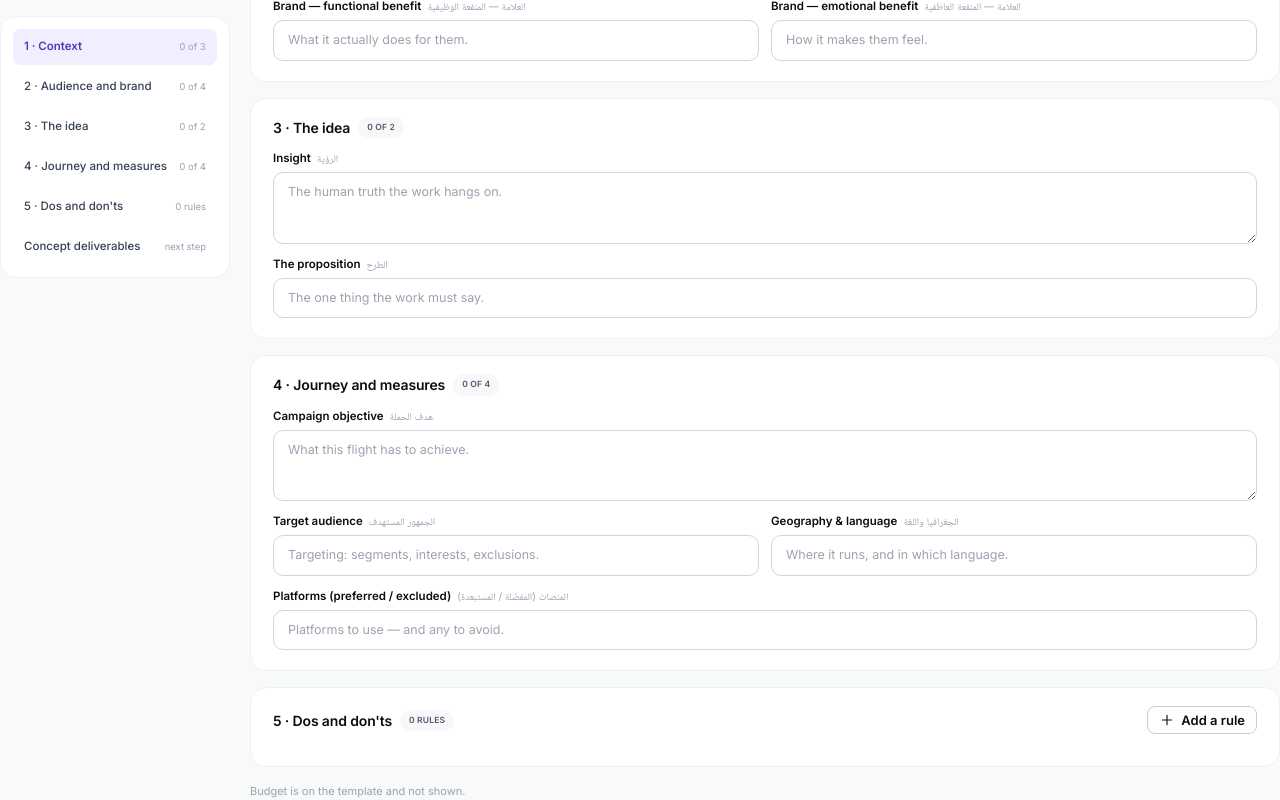
BriefStepContainer › opens the rule dialog and hands the finished rule back
The width and height of the screenshot is (1280, 800).
(page scrolled)
Click the button with test id "brief-add-rule" at (1202, 720), box 1147,706 -> 1257,734
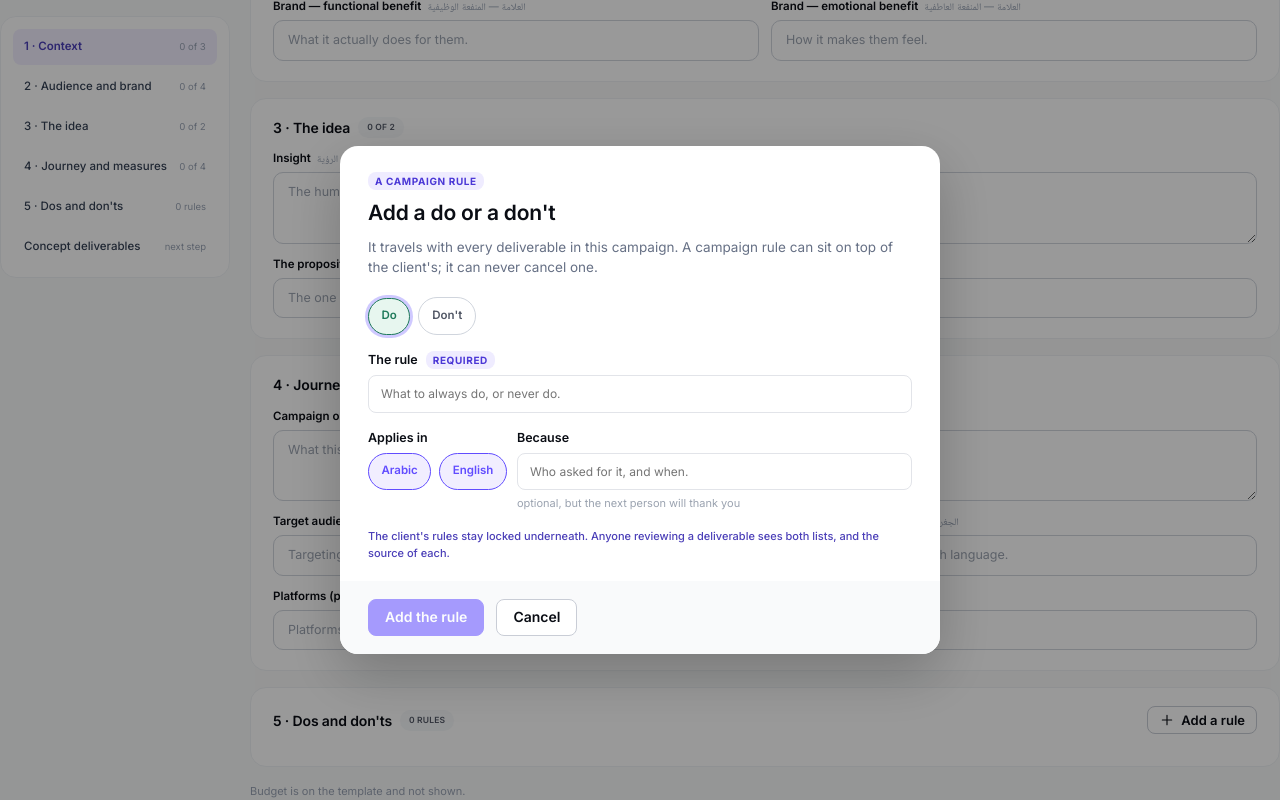
Click the radio button with test id "brief-rule-dialog-kind-dont" at (447, 316), box 418,297 -> 476,335
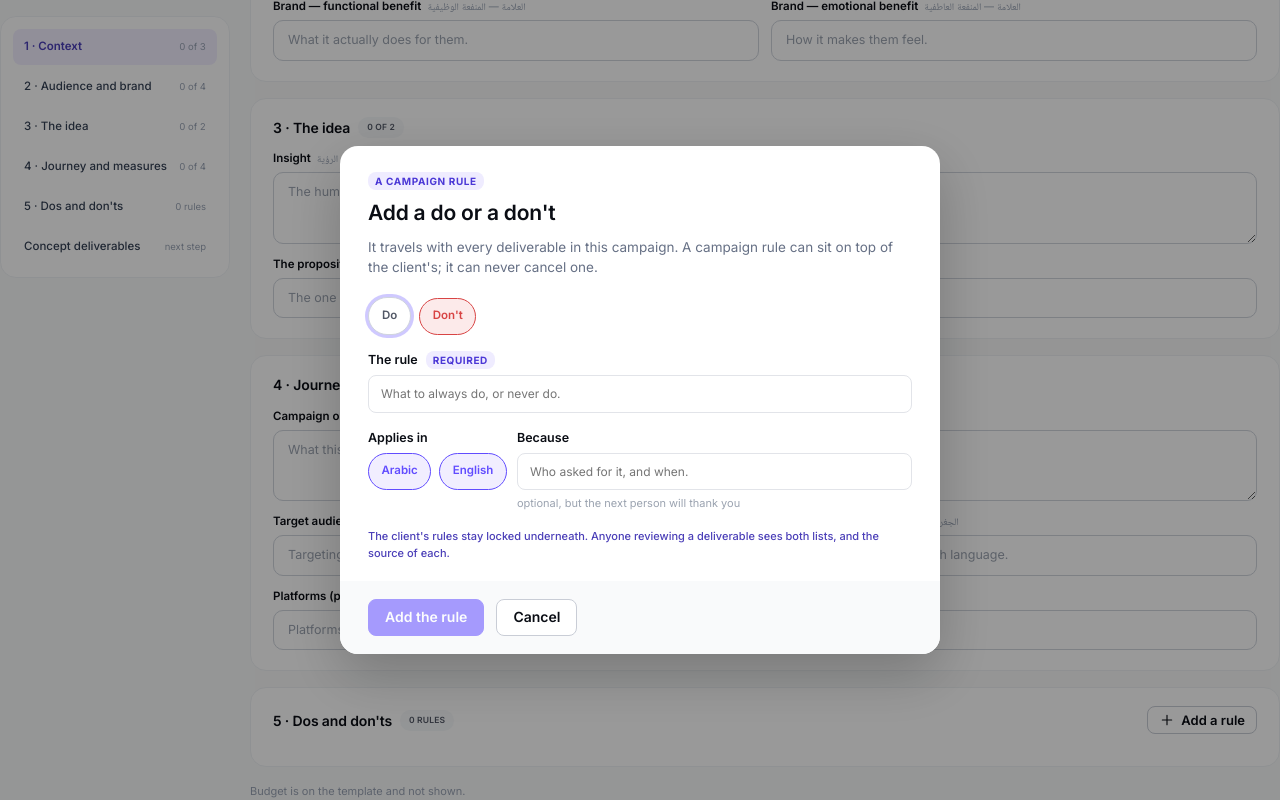
Type "Never \"lottery\"." into the field with test id "brief-rule-dialog-text" at (640, 394), box 368,376 -> 912,413
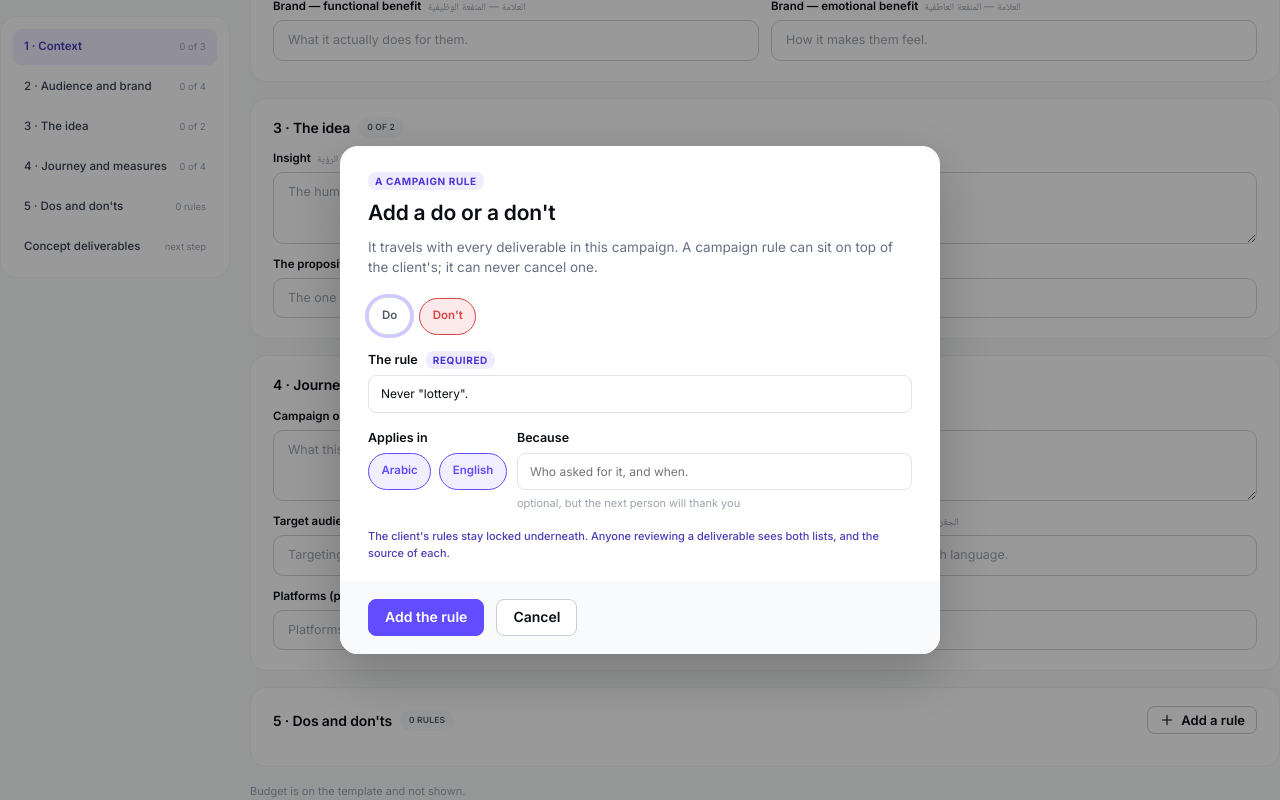
Click the button with test id "brief-rule-dialog-submit" at (426, 617), box 368,599 -> 484,636
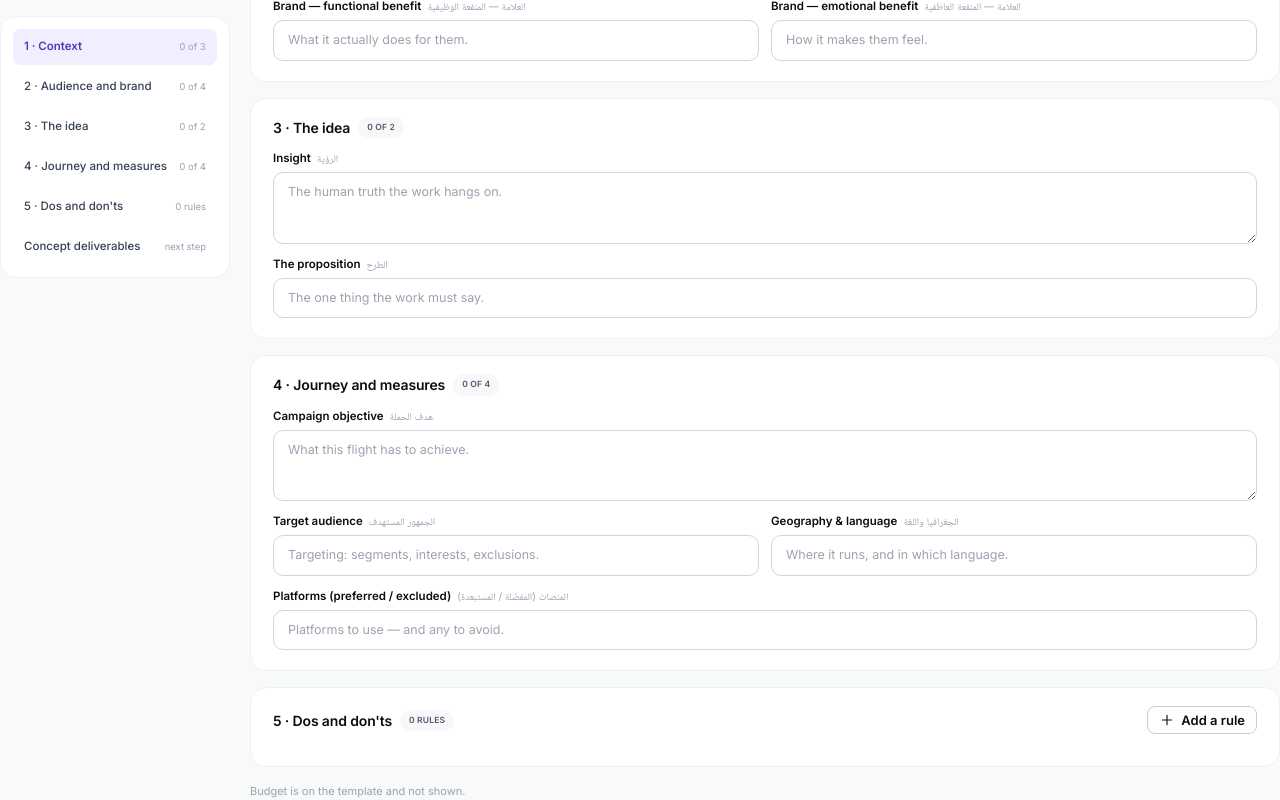
Result: the dialog with test id "brief-rule-dialog" is gone
